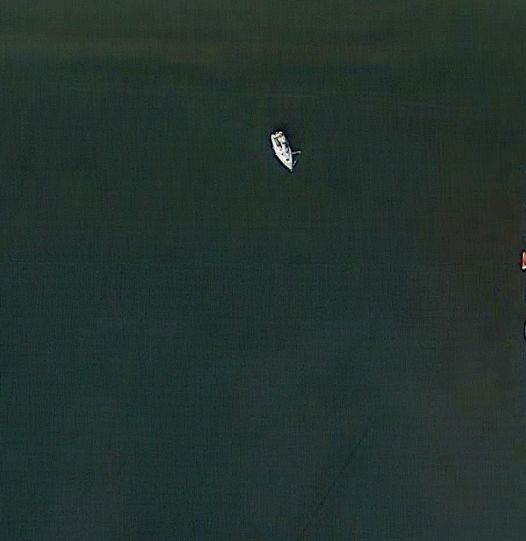boat: (270, 129, 296, 173)
